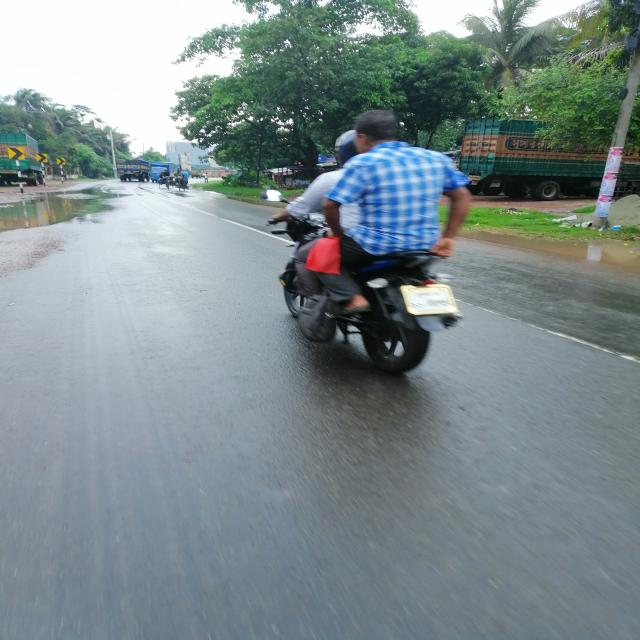Motorbike: (254, 191, 467, 375)
Truck: (461, 113, 640, 190), (1, 131, 57, 182), (113, 159, 152, 182)
